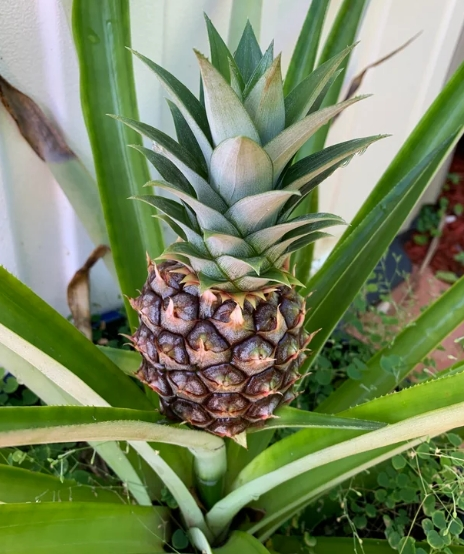rotten pineapple: (126, 35, 357, 458)
